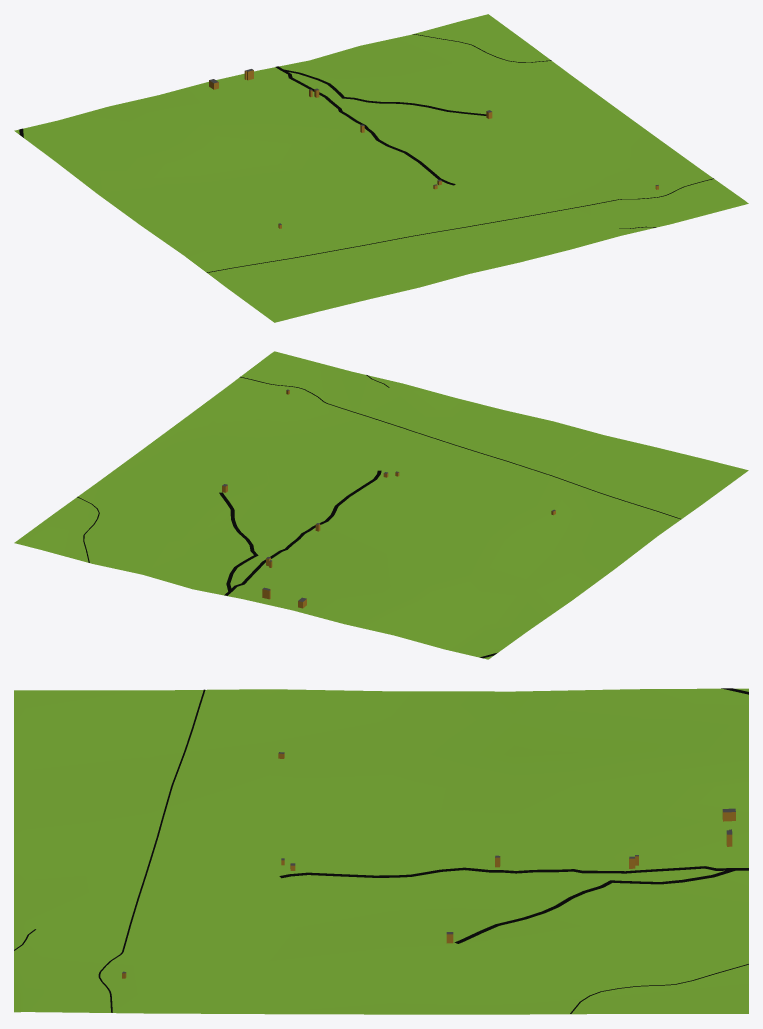
Rendered from tile_09_01.glb.
The picture shows the model from 3 angles, top to bottom: view 1: azimuth 30°, elevation 25°; view 2: azimuth 150°, elevation 25°; view 3: azimuth 270°, elevation 25°; orthographic projection. The views are drawn at different scales.
Parts seen in each view (by area): view 1: Terrain_09_01, Ub_small.osm_roads_unclassified_09_01, Ub_small.osm_paths_cycleway_09_01; view 2: Terrain_09_01, Ub_small.osm_roads_unclassified_09_01, Ub_small.osm_paths_cycleway_09_01; view 3: Terrain_09_01, Ub_small.osm_roads_unclassified_09_01, Ub_small.osm_paths_cycleway_09_01, Ub_small.osm_buildings_09_01.
Boxes of the visible parts, left/top/right/bottom form: Terrain_09_01: left=14, top=14, right=748, bottom=322; Ub_small.osm_roads_unclassified_09_01: left=19, top=66, right=486, bottom=185; Ub_small.osm_paths_cycleway_09_01: left=207, top=178, right=713, bottom=272; Terrain_09_01: left=14, top=351, right=748, bottom=659; Ub_small.osm_roads_unclassified_09_01: left=219, top=470, right=497, bottom=658; Ub_small.osm_paths_cycleway_09_01: left=240, top=376, right=681, bottom=519; Terrain_09_01: left=14, top=688, right=748, bottom=1014; Ub_small.osm_roads_unclassified_09_01: left=279, top=688, right=748, bottom=943; Ub_small.osm_paths_cycleway_09_01: left=98, top=689, right=205, bottom=1012; Ub_small.osm_buildings_09_01: left=122, top=752, right=735, bottom=978.
Size of the model in its own units: 978 by 23.95 by 930.
